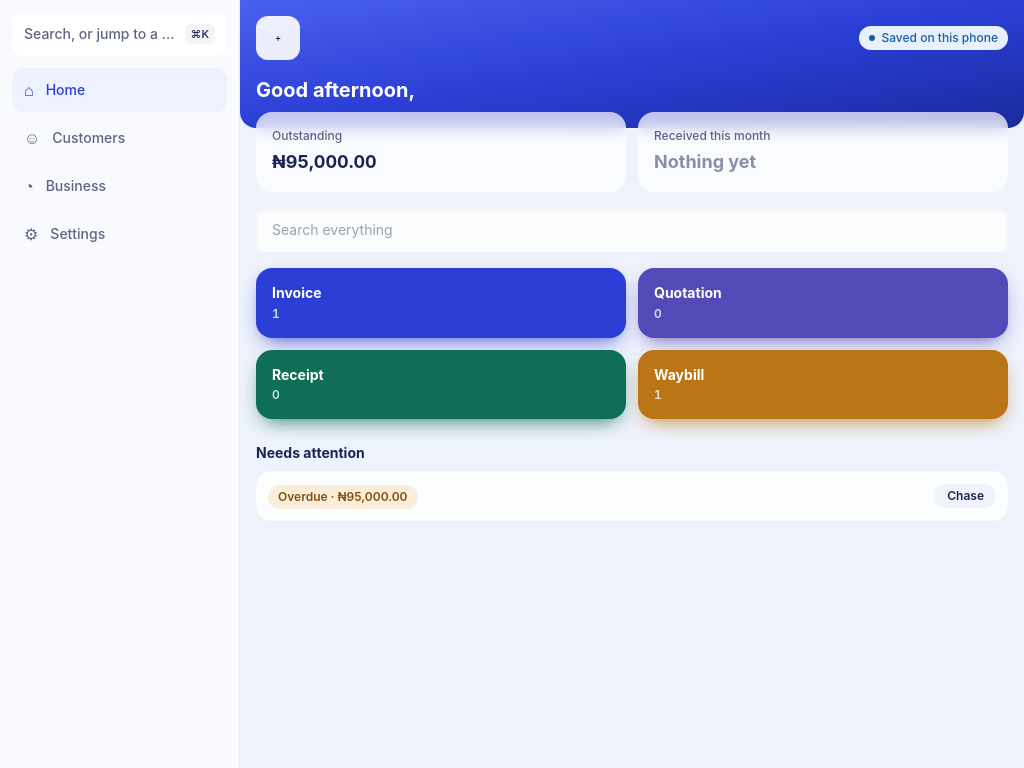
Home search replaces the body with results (§G, §D.3) › puts the tiles away while a query is in the field, and brings them back
Expected: the button "1 Invoice" is shown, left=256, top=268, right=626, bottom=338
Expected: the element labelled "Needs attention" is shown, left=240, top=419, right=1023, bottom=521
Type "cement" into the search field labelled "Search everything".
click(632, 230); type("cement")  # box left=256, top=208, right=1008, bottom=252
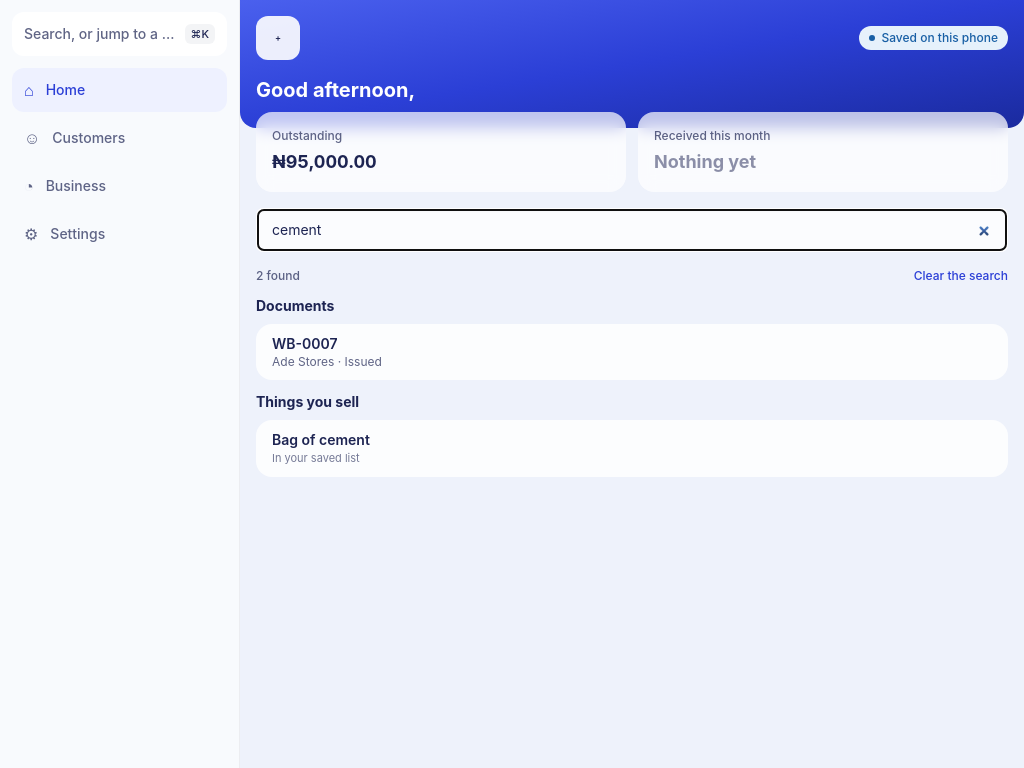
Now the heading labelled "Needs attention" is gone
Now the element labelled "Documents" is shown, box left=256, top=296, right=1008, bottom=380
Clear the search field named "Search" at (632, 230), box left=256, top=208, right=1008, bottom=252
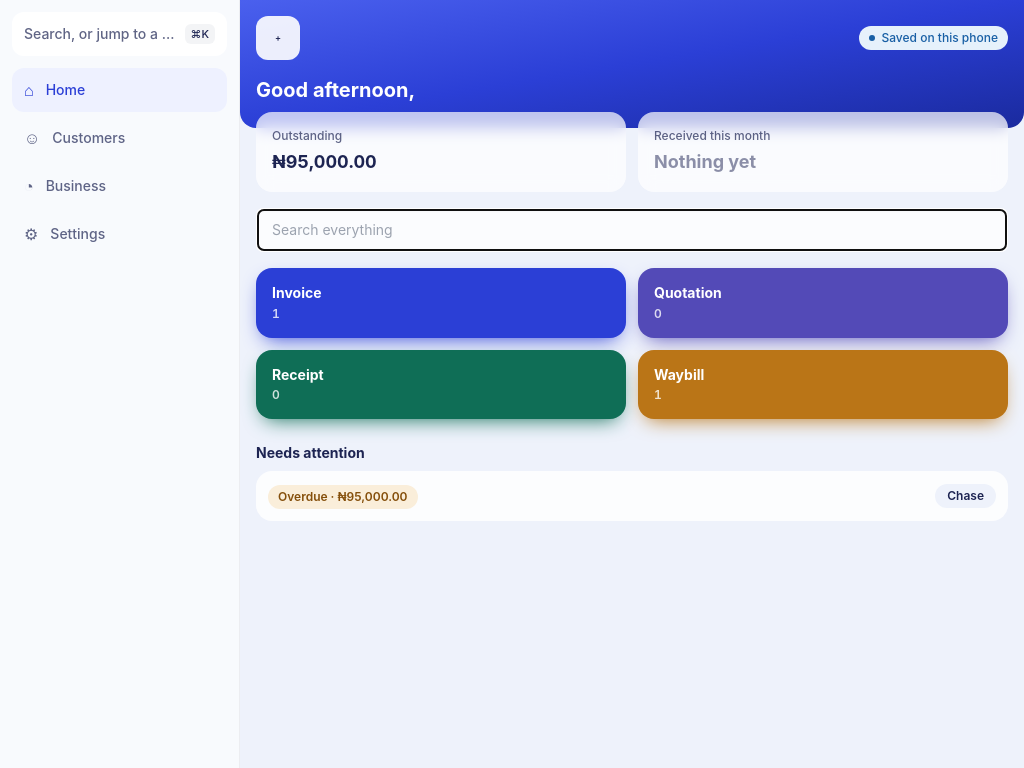
Now the button "1 Invoice" is shown, box left=256, top=268, right=626, bottom=338
Now the heading labelled "Documents" is gone
